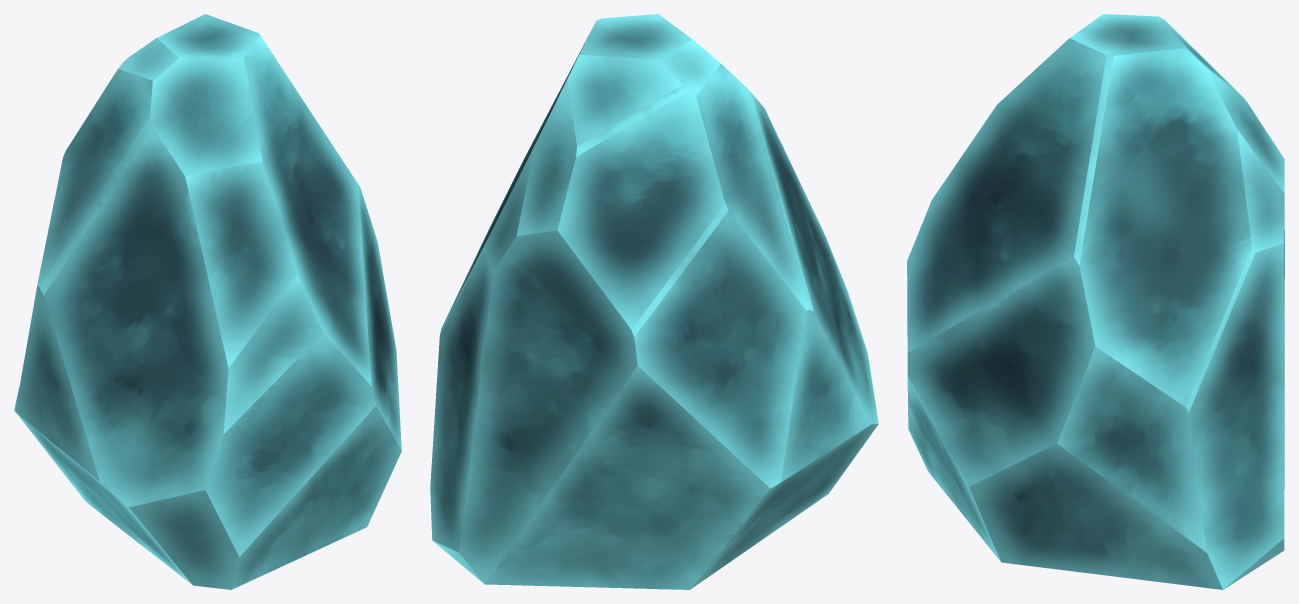
The model's file is low_poly_crystal_game_ready_asset.glb.
3 renders of one model, left to right at view 1: azimuth 30°, elevation 25°; view 2: azimuth 150°, elevation 25°; view 3: azimuth 270°, elevation 25°, orthographic. The views are drawn at different scales.
Parts seen in each view (by area): view 1: Crystal; view 2: Crystal; view 3: Crystal.
Part boxes in pixels (box(x1,y1,x2,y2)): Crystal: box(14, 14, 401, 589); Crystal: box(430, 14, 878, 589); Crystal: box(907, 14, 1284, 589).
Size of the model in its own units: 69.86 by 98.56 by 69.72.
Materials: 1 (1 with a texture image).
